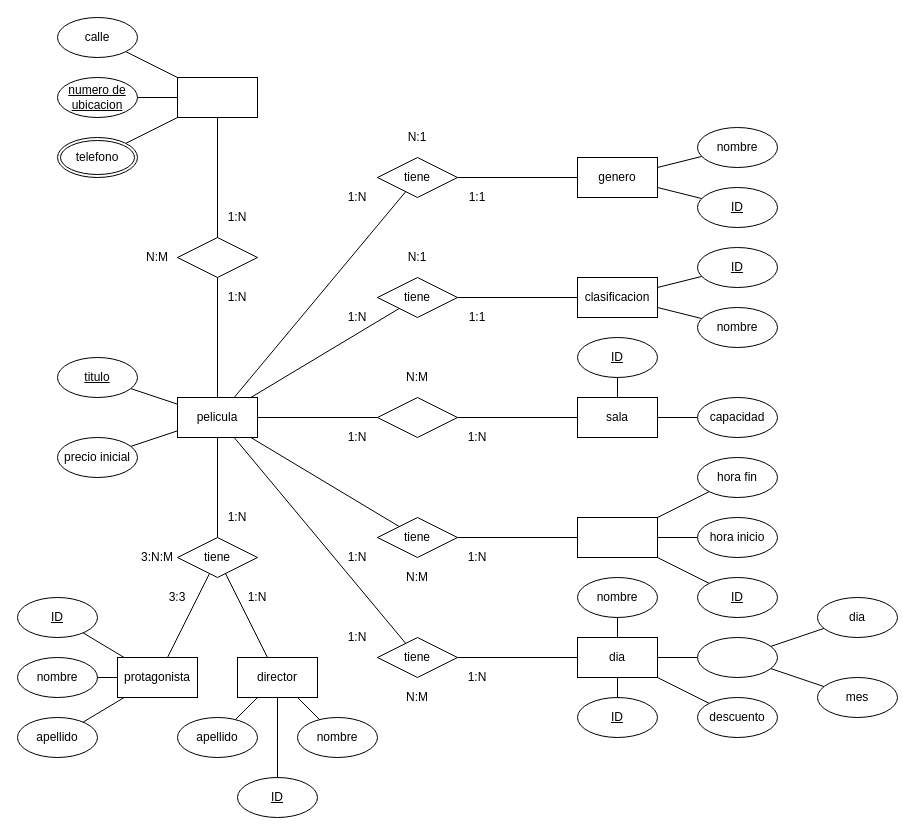
Some shapes in this 915 by 835 pixel diagram are drawn without their labels. The shapes that lost their labels are listed below. From the top down, each one's centre as x and y in pixels, then its label:
At pixel 217 97: "cine".
At pixel 217 257: "proyecta".
At pixel 417 417: "pasa".
At pixel 617 537: "horario".
At pixel 737 657: "fecha".
